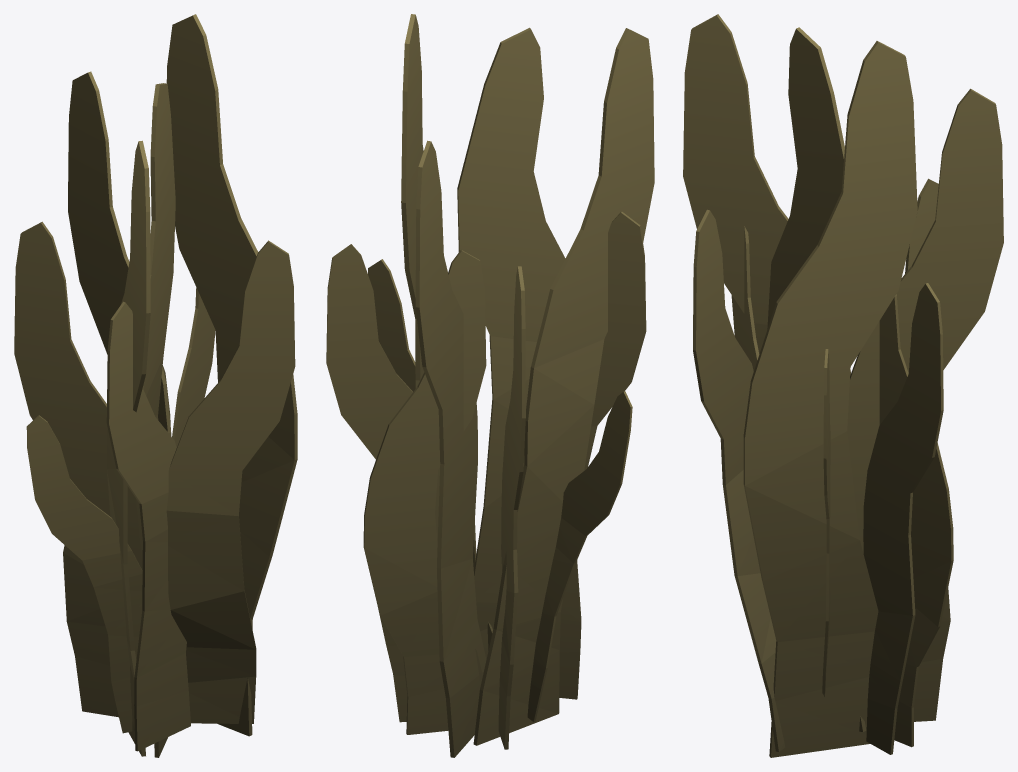
File: seaweed.glb
The picture shows the model from 3 angles, left to right: view 1: azimuth 30°, elevation 25°; view 2: azimuth 150°, elevation 25°; view 3: azimuth 270°, elevation 25°; orthographic projection. The views are drawn at different scales.
Visible parts, largest first — view 1: seaweed_merged; view 2: seaweed_merged; view 3: seaweed_merged.
Part boxes in pixels (x1=…): seaweed_merged: x1=14, y1=14, x2=297, y2=757; seaweed_merged: x1=326, y1=14, x2=654, y2=757; seaweed_merged: x1=683, y1=14, x2=1003, y2=757.
Bounding box in the file's own units: 0.6418 × 1.64 × 0.6609.
4 materials, 4 textured.
